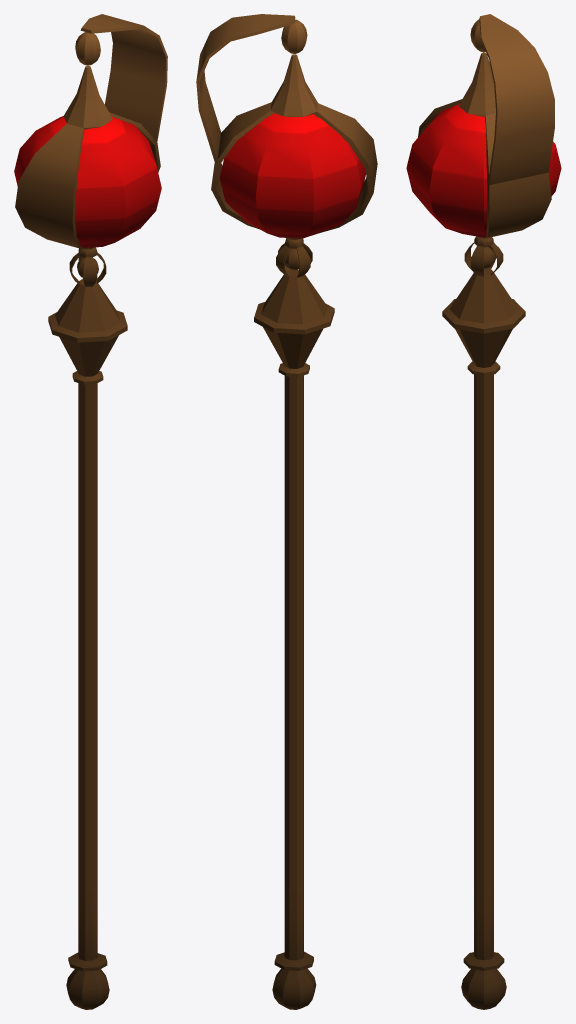
Rendered from Senjata Serenith.fbx.
3 views of the same model, side by side, from view 1: azimuth 30°, elevation 25°; view 2: azimuth 150°, elevation 25°; view 3: azimuth 270°, elevation 25° (orthographic).
Visible parts, largest first — view 1: Senjata Serenith; view 2: Senjata Serenith; view 3: Senjata Serenith.
Part boxes in pixels (<box>): Senjata Serenith: <box>14,14,167,1009</box>; Senjata Serenith: <box>196,14,377,1009</box>; Senjata Serenith: <box>406,14,561,1009</box>.
Size of the model in its own units: 53.26 by 307 by 43.5.
